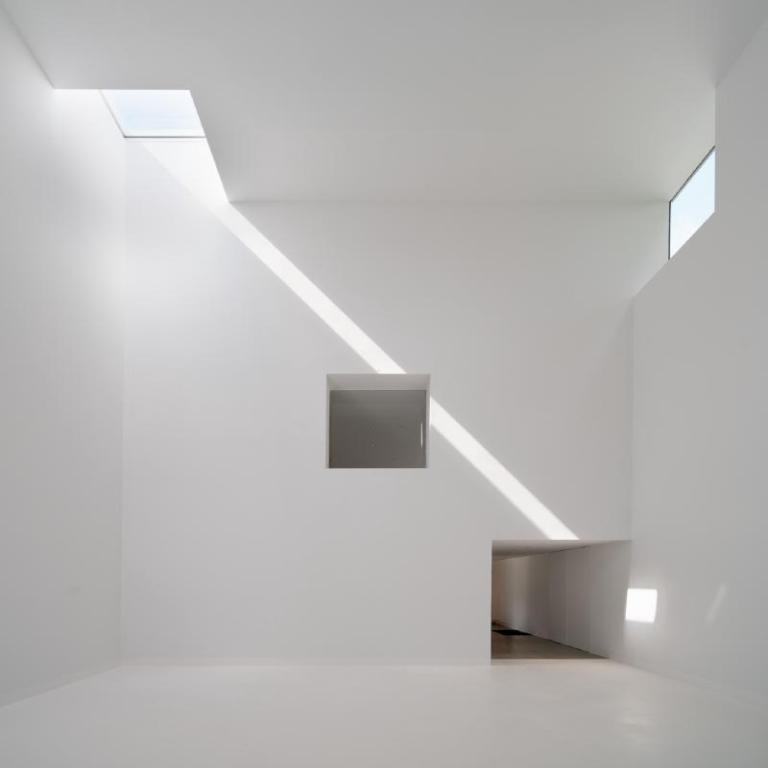white-walls: (14, 19, 619, 646)
